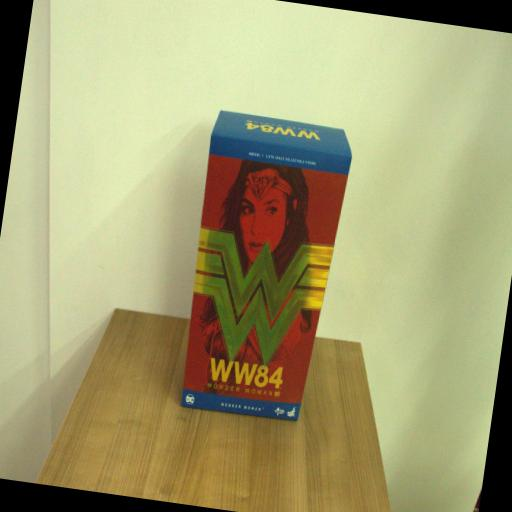WonderWoman: (172, 107, 356, 426)
